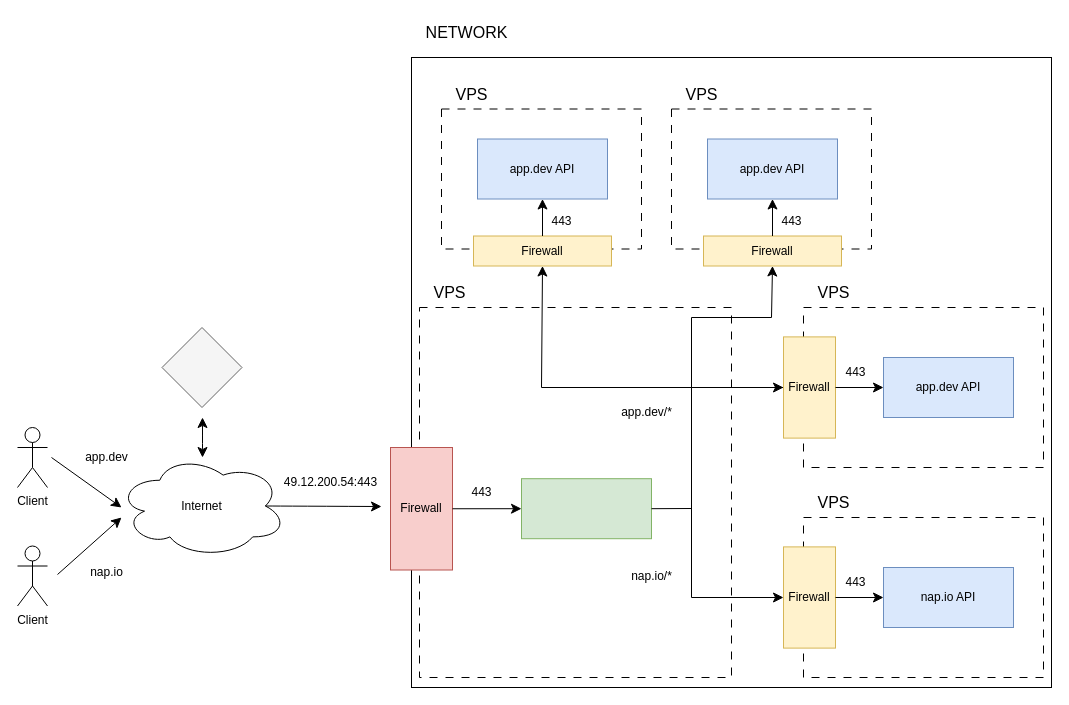
This 1069x705 diagram has some shape labels left out. The shapes that lost their labels are listed below. From the top down, each one's centre as x and y in pixels, then its label:
(201,367): DNS
(586,508): Reverse Proxy
